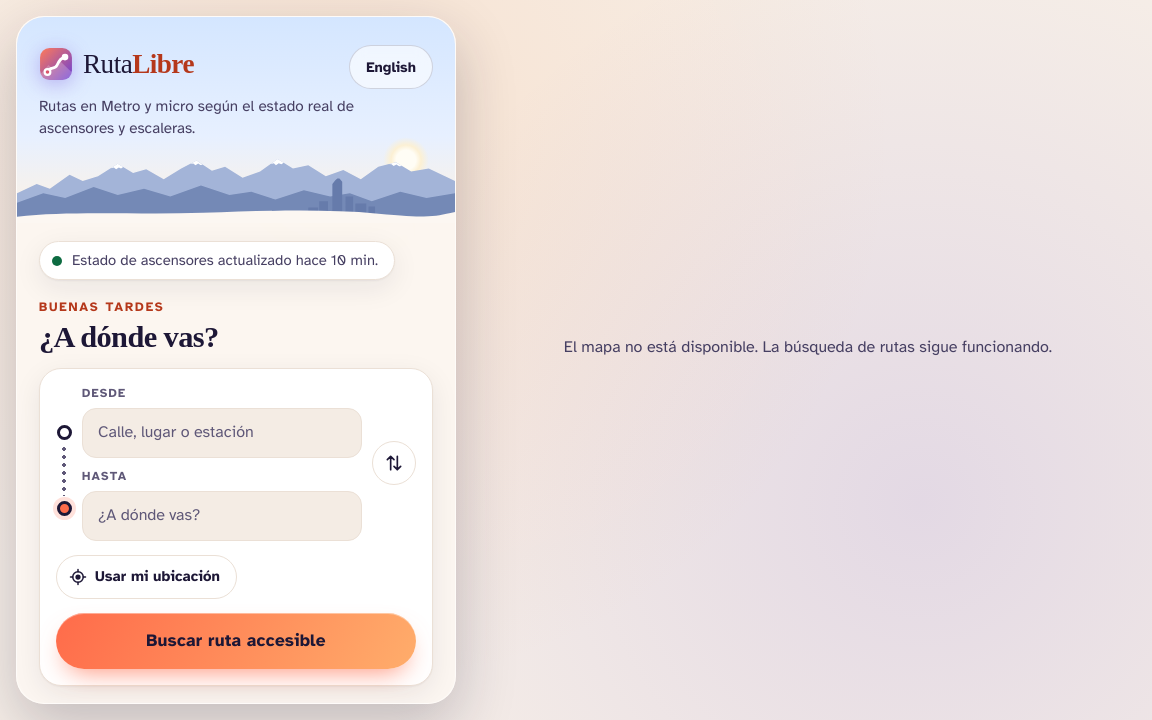
App after a result › scrolls back to the map on a phone, so the route is in view
The image size is (1152, 720).
Type "Univ" into the dropdown labelled "Desde" at (222,433), box [82,408,362,458]
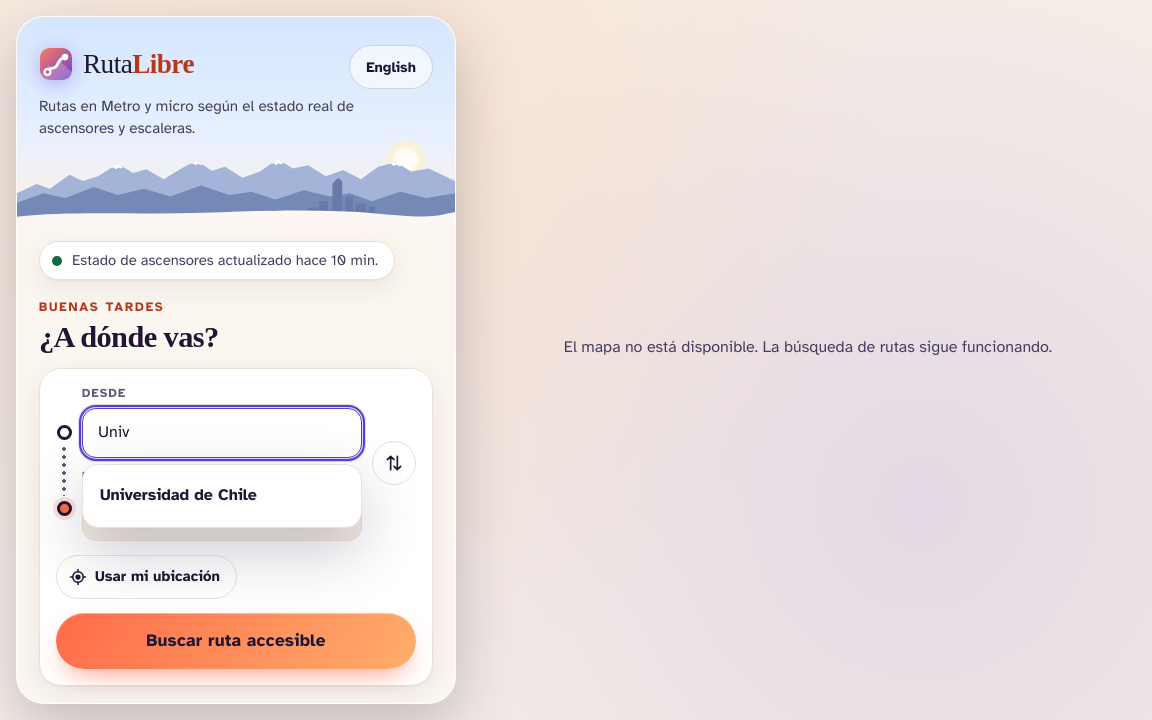
Click the option "Universidad de Chile" at (178,495), box [100,485,257,505]
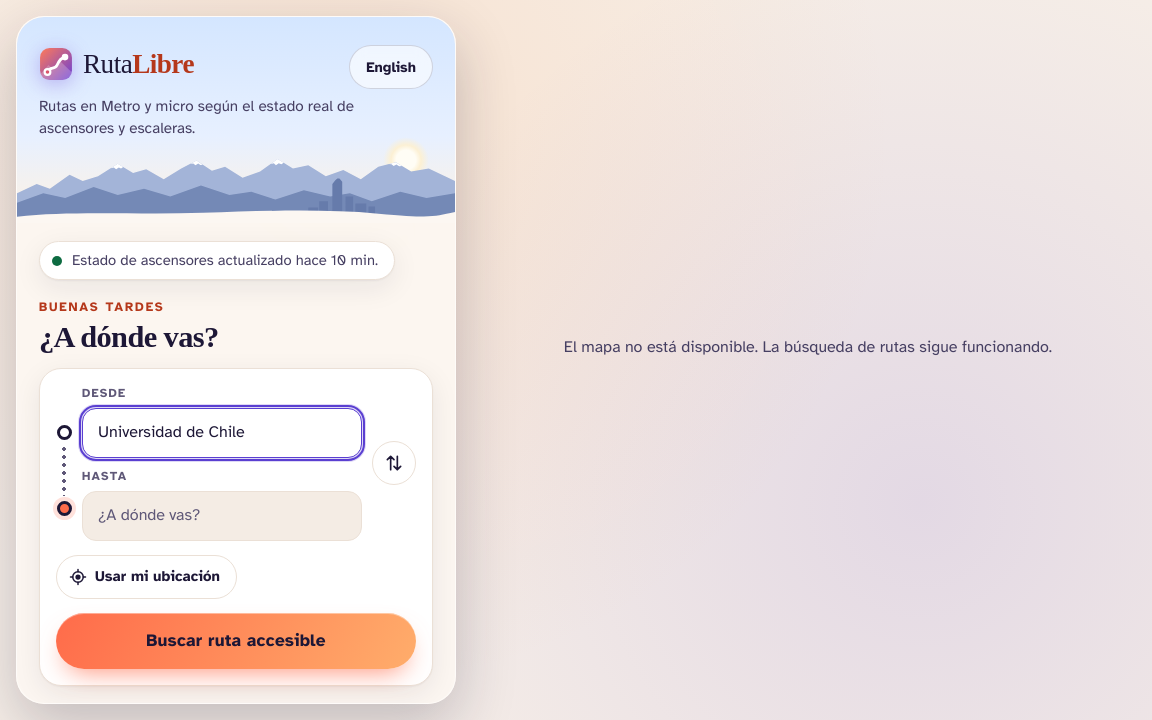
Type "Univ" into the dropdown labelled "Hasta" at (222,516), box [82,491,362,541]
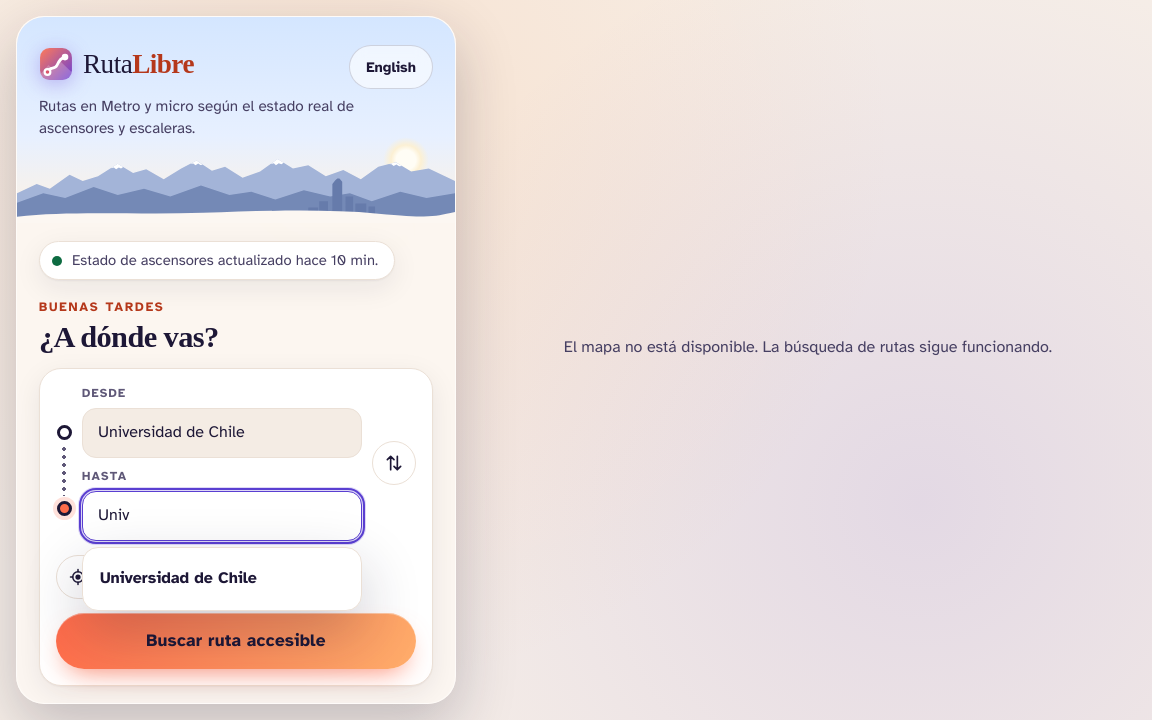
Click the option "Universidad de Chile" at (178,578), box [100,568,257,588]
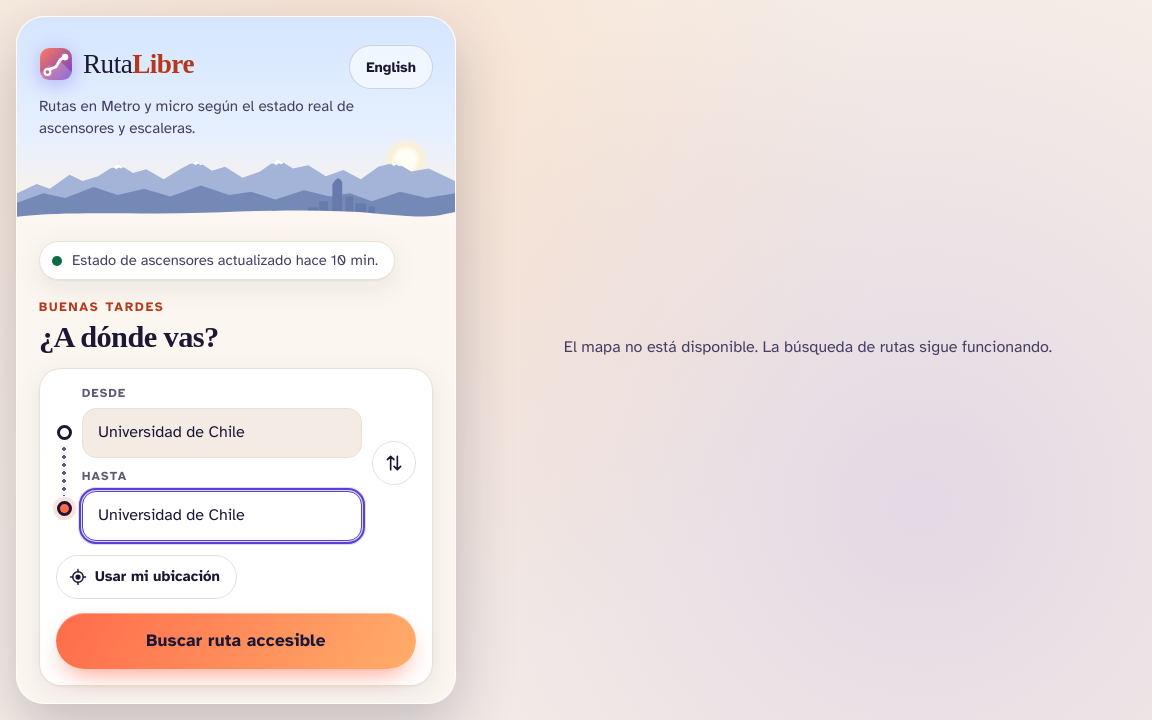
Click the button "Buscar ruta accesible" at (236,641), box [56,613,416,669]
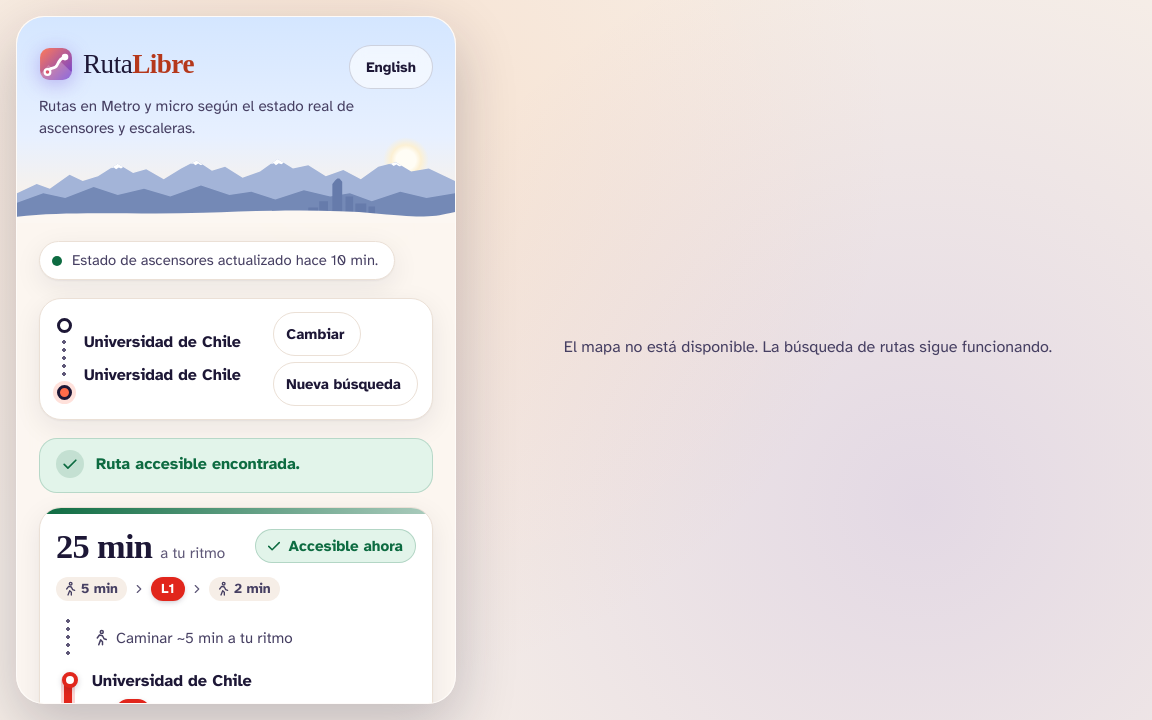
Result: the text "Ruta accesible encontrada." is shown at [39,438,433,493]
